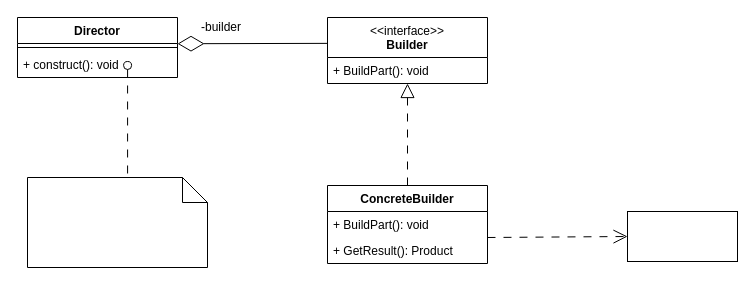
Image size: 755x285. Some labels were removed from this diagram. The shapes that lost their labels are listed below. From the top down, each one's centre as x and y in pixels, then its label:
point 117,222: for all objects in structure { builder->BuildPart() }
point 682,236: Product
